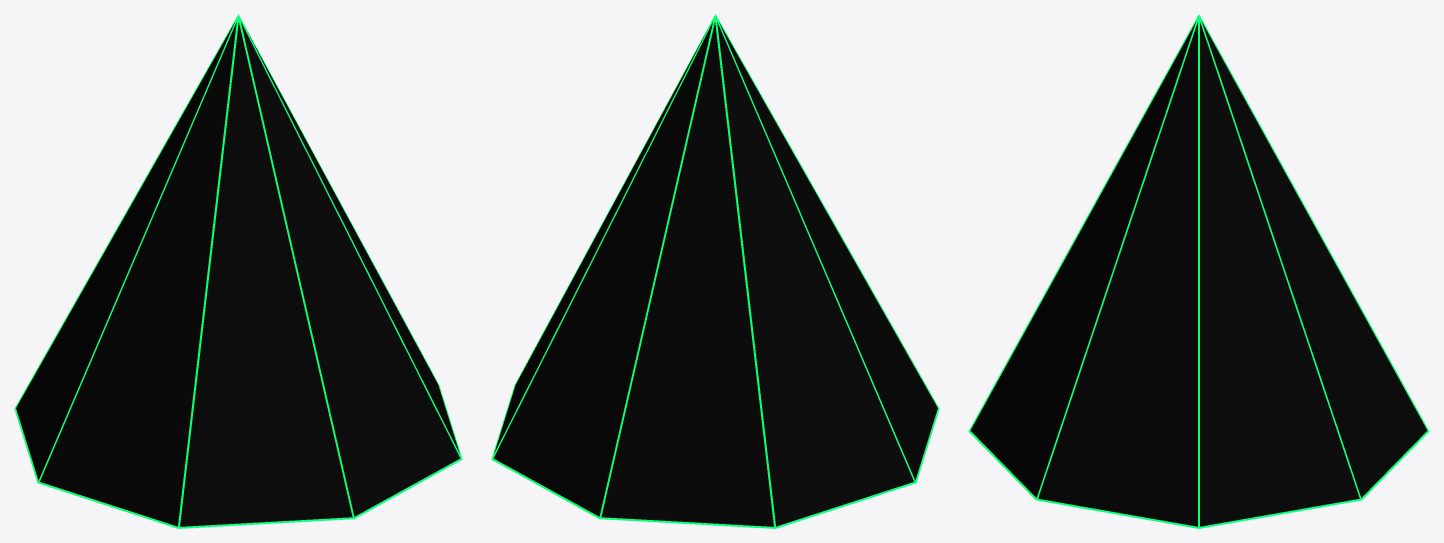
Rendered from Level One Spike.fbx.
3 views of the same model, side by side, from view 1: azimuth 30°, elevation 25°; view 2: azimuth 150°, elevation 25°; view 3: azimuth 270°, elevation 25° (orthographic).
Visible parts, largest first — view 1: Cone; view 2: Cone; view 3: Cone.
Boxes of the visible parts, box(x1,y1,x2,y2) form: Cone: box(14, 14, 462, 528); Cone: box(491, 14, 939, 528); Cone: box(968, 14, 1429, 528).
Bounding box in the file's own units: 201 × 201 × 201.
